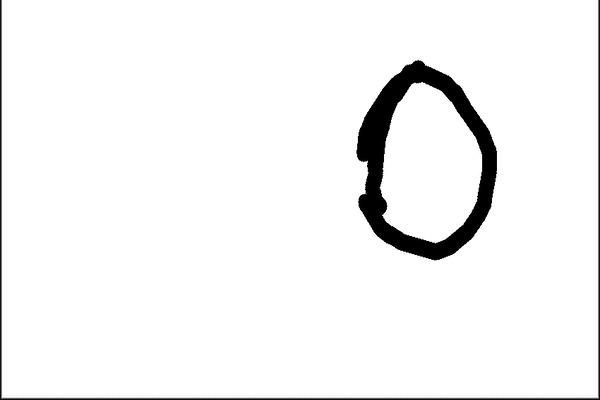O: (342, 44, 508, 261)
